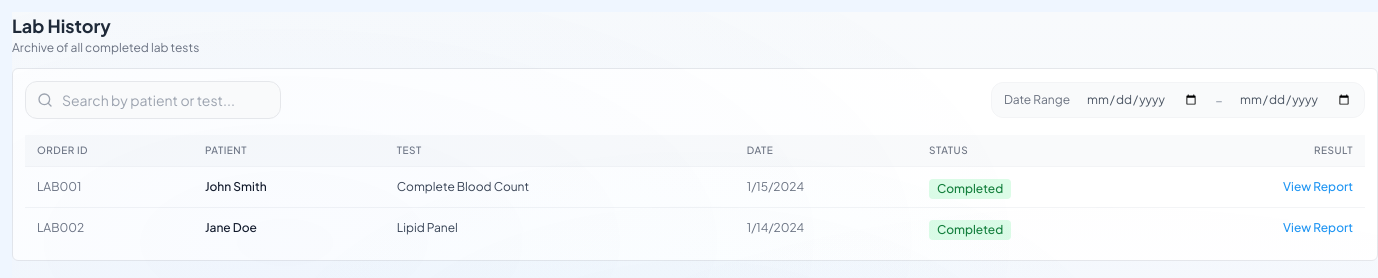
Lab History Page › filters orders by test type
The image size is (1378, 278).
Expected: the text "Jane Doe" is shown, [193,208,385,248]
Type "Lipid" into the field with placeholder "Search by patient or test...".
click(153, 100); type("Lipid")  # box [25,81,281,119]
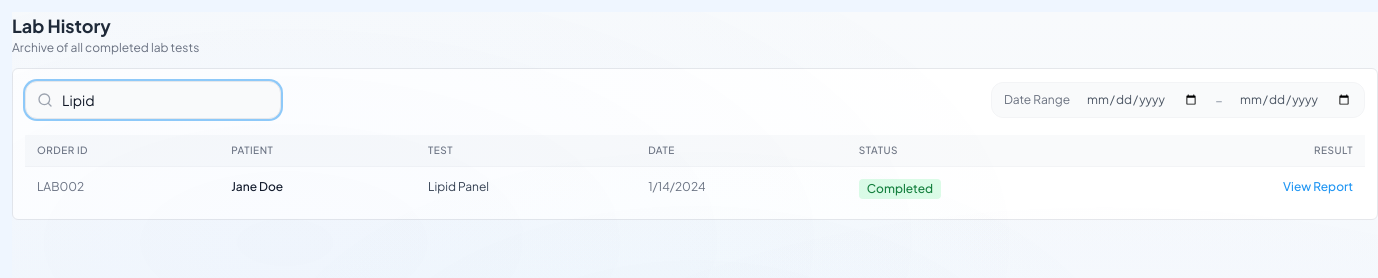
Expected: the text "Jane Doe" is shown, [219,166,416,207]
Result: the text "John Smith" is gone
